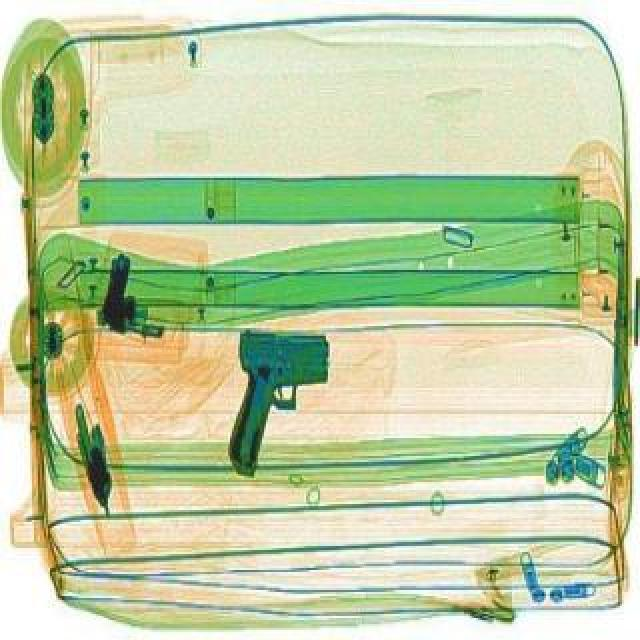gun: (206, 314, 340, 486), (46, 392, 136, 500), (96, 248, 176, 338)
